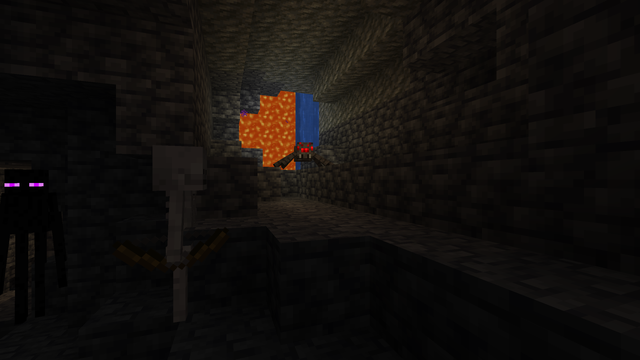araignees: (279, 138, 329, 169)
endermens: (3, 164, 60, 326)
squelettes: (146, 145, 210, 332)
